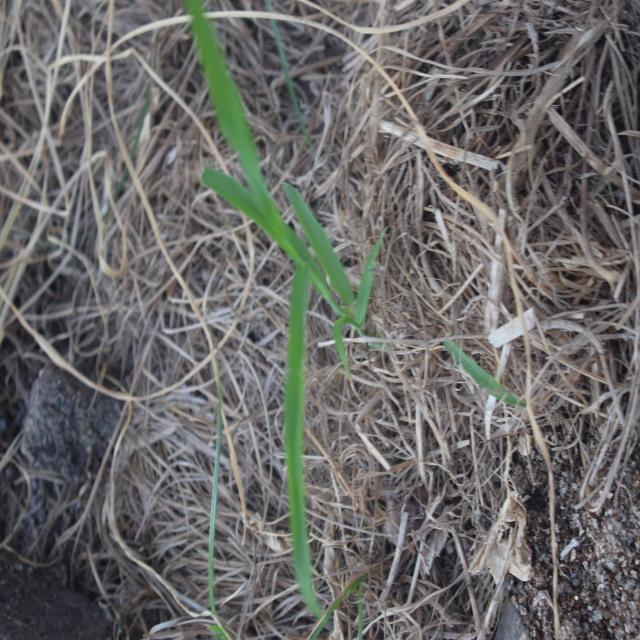crabgrass: (195, 4, 374, 599)
